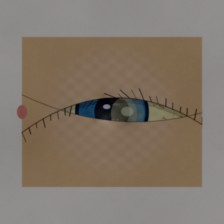corneal_ulcer: (97, 92, 151, 135)
